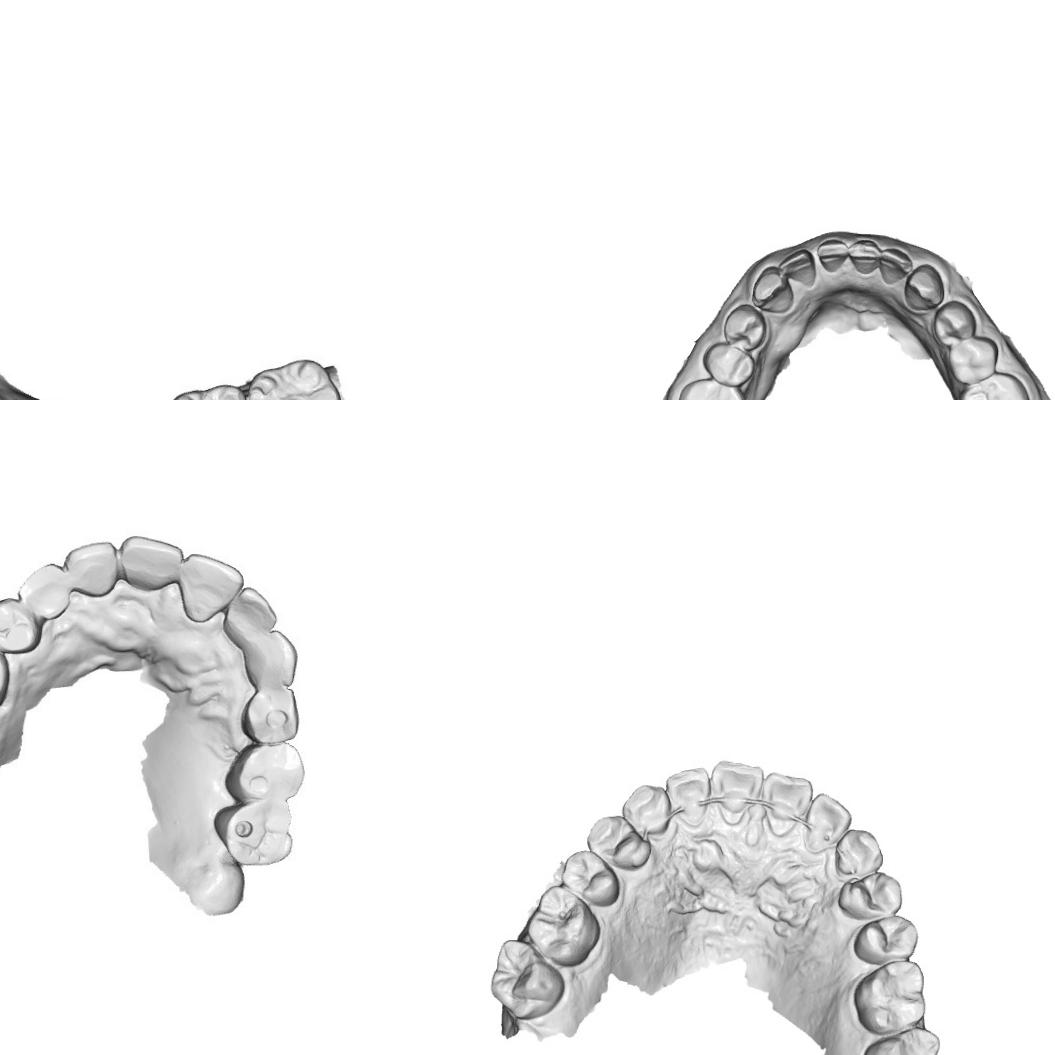canine: (241, 626, 298, 690), (15, 560, 73, 621), (830, 826, 886, 880), (620, 782, 670, 839), (750, 264, 795, 314), (902, 261, 946, 311)
incisor: (176, 552, 244, 624), (115, 534, 186, 592), (708, 758, 766, 828), (760, 770, 814, 838), (221, 584, 279, 646), (801, 790, 853, 854), (62, 538, 118, 596), (662, 766, 712, 829), (775, 246, 819, 289), (878, 244, 914, 288), (846, 236, 882, 278), (814, 236, 849, 275)
molar: (523, 883, 603, 969), (487, 936, 565, 1022), (850, 958, 928, 1037), (221, 740, 308, 808), (213, 798, 295, 868), (243, 357, 338, 400), (860, 1025, 942, 1055), (958, 369, 1031, 400), (164, 377, 255, 400), (674, 377, 750, 400)
premolar: (557, 848, 624, 909), (238, 686, 301, 750), (584, 813, 652, 871), (851, 912, 920, 966), (836, 870, 905, 922), (946, 334, 1000, 386), (700, 340, 756, 390), (930, 297, 978, 348), (0, 595, 40, 654), (720, 302, 767, 352)
